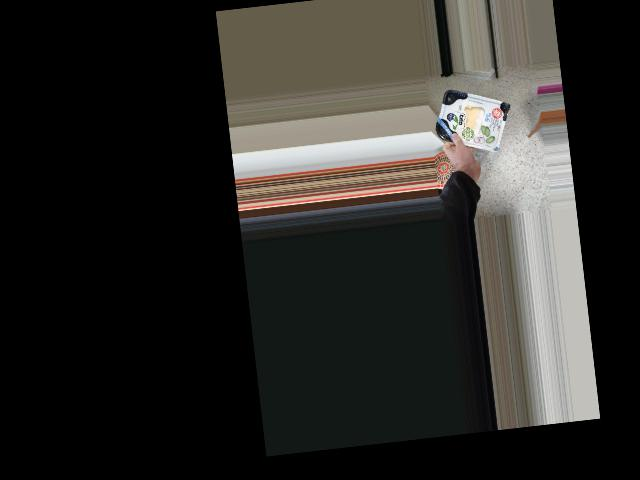cheese: (440, 92, 506, 150)
